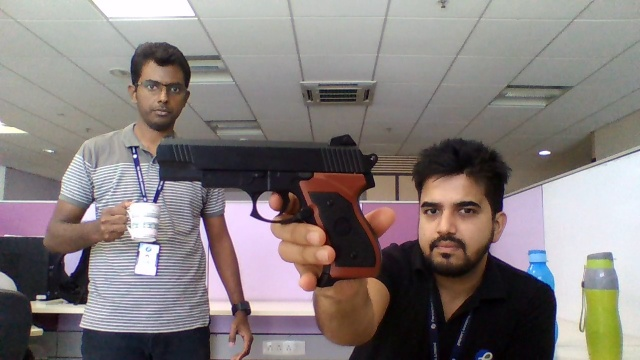gun: (156, 135, 375, 218)
